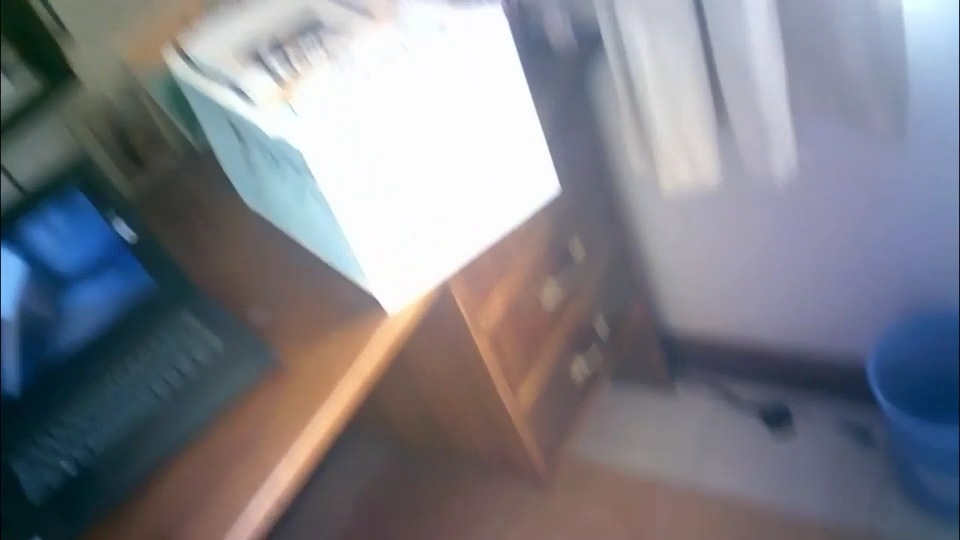wheat_flour_blue_label: (166, 0, 562, 310)
